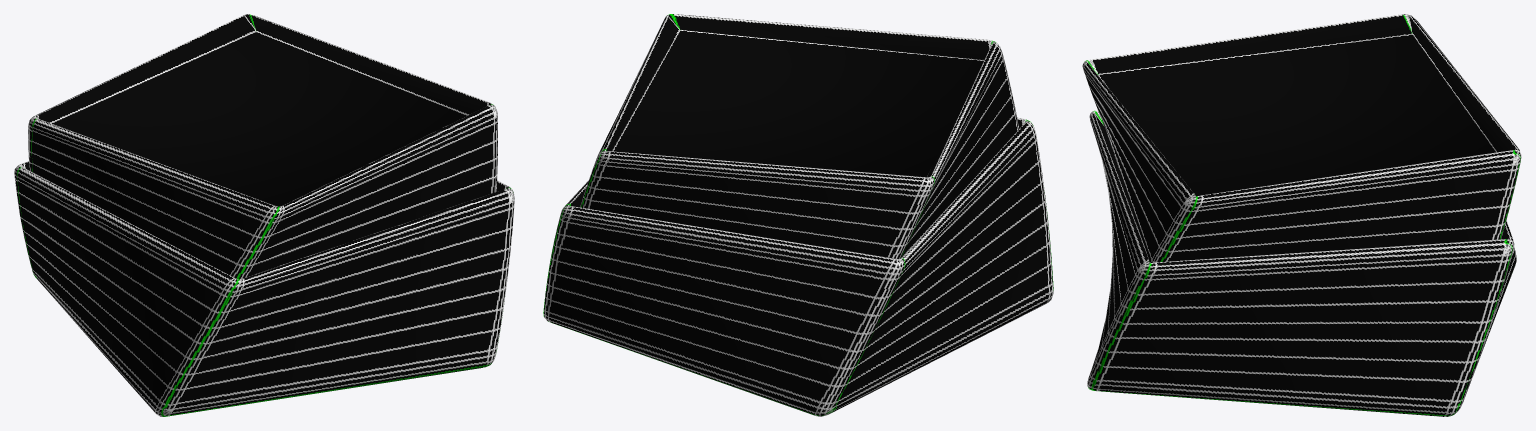
File: button.FBX
The picture shows the model from 3 angles, left to right: view 1: azimuth 30°, elevation 25°; view 2: azimuth 150°, elevation 25°; view 3: azimuth 270°, elevation 25°; orthographic projection. The views are drawn at different scales.
Visible parts, largest first — view 1: Box001, Box002; view 2: Box001, Box002; view 3: Box001, Box002.
Boxes of the visible parts, x1=… form: Box001: x1=28, y1=14, x2=497, y2=278; Box002: x1=14, y1=161, x2=514, y2=416; Box001: x1=580, y1=14, x2=1019, y2=258; Box002: x1=543, y1=117, x2=1053, y2=416; Box001: x1=1082, y1=14, x2=1521, y2=263; Box002: x1=1087, y1=110, x2=1516, y2=416.
Bounding box in the file's own units: 43.52 × 24.43 × 43.52.
